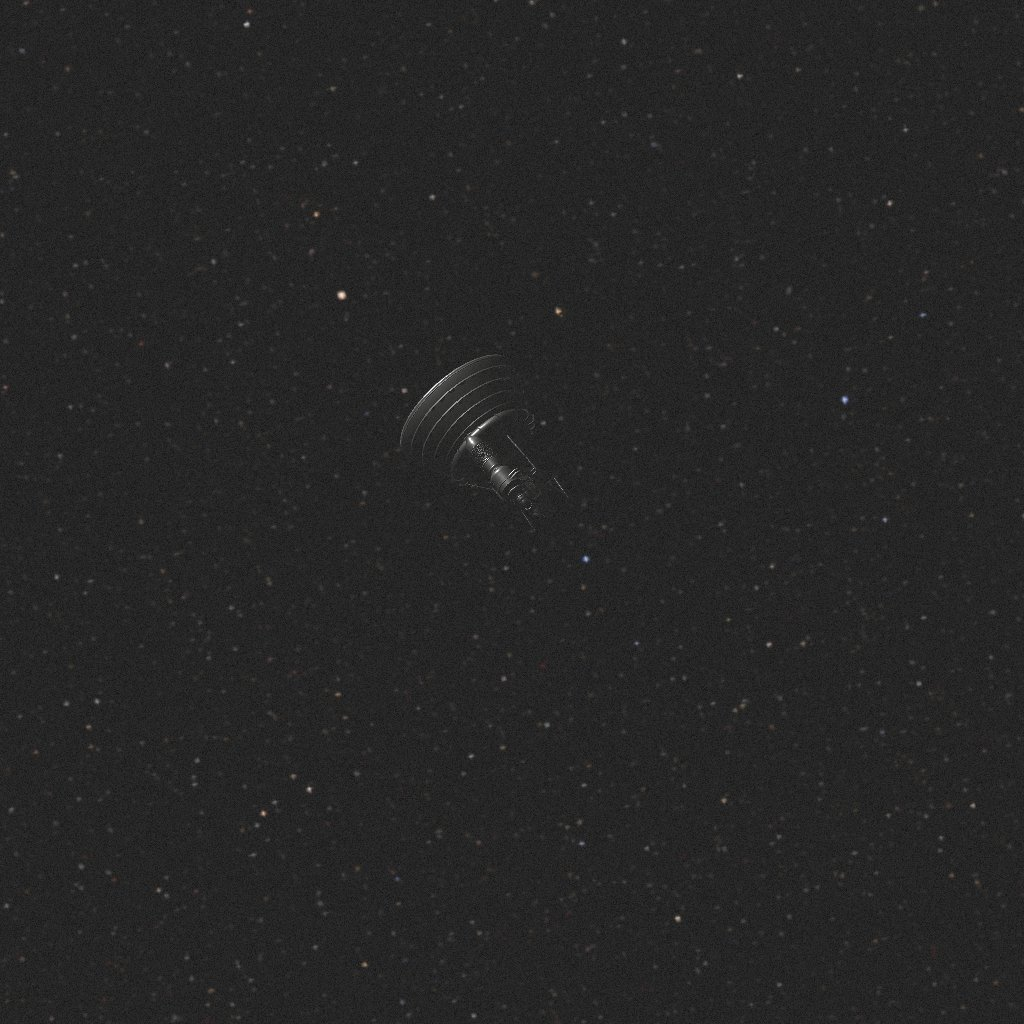debris: (400, 355, 568, 530)
